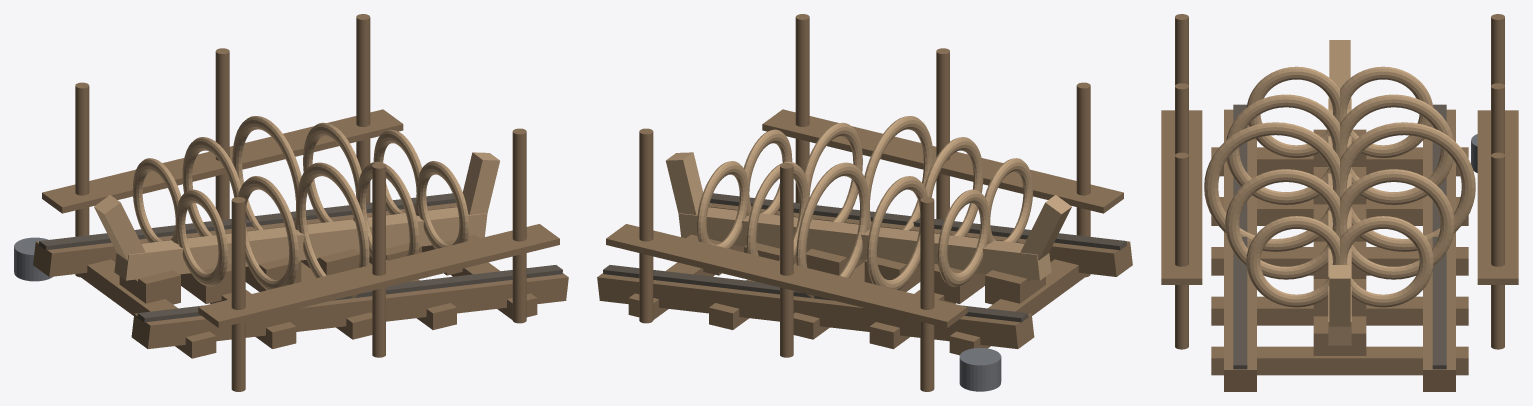
The model's file is drydock_slipway.glb.
The picture shows the model from 3 angles, left to right: view 1: azimuth 30°, elevation 25°; view 2: azimuth 150°, elevation 25°; view 3: azimuth 270°, elevation 25°; orthographic projection.
Visible parts, largest first — view 1: Cube, Cube.018, Cube.015, Cube.019, Cube.002, Cylinder.002, Cylinder, Cube.004, Cube.003, Cylinder.001, Torus.005, Cube.001 (+23 smaller); view 2: Cube.002, Cube.019, Cube.015, Cube.018, Cube, Cylinder.005, Cylinder.003, Cube.001, Cylinder.004, Torus.004, Cube.003, Cube.004 (+23 smaller); view 3: Cube.008, Cube.018, Cube.019, Cube, Cube.002, Torus.004, Torus.005, Torus.006, Torus.007, Cube.007, Torus.002, Torus.003 (+24 smaller).
Boxes of the visible parts, x1,y1,x2,y2 form: Cube: (131, 273, 568, 348); Cube.018: (198, 224, 559, 327); Cube.015: (114, 207, 487, 280); Cube.019: (42, 109, 403, 213); Cube.002: (33, 203, 456, 276); Cylinder.002: (512, 128, 526, 323); Cylinder: (231, 197, 245, 391); Cube.004: (76, 259, 216, 358); Cube.003: (39, 193, 455, 250); Cylinder.001: (372, 162, 385, 357); Torus.005: (297, 162, 369, 298); Cube.001: (137, 265, 562, 322); Cube.002: (597, 273, 1034, 348); Cube.019: (606, 224, 967, 327); Cube.015: (678, 207, 1051, 280); Cube.018: (762, 109, 1123, 213); Cube: (709, 203, 1132, 276); Cylinder.005: (639, 128, 653, 323); Cylinder.003: (920, 197, 934, 391); Cube.001: (710, 193, 1126, 250); Cylinder.004: (780, 162, 793, 357); Torus.004: (796, 162, 868, 298); Cube.003: (603, 265, 1028, 322); Cube.004: (949, 259, 1088, 355); Cube.008: (1211, 346, 1468, 375); Cube.018: (1161, 110, 1202, 284); Cube.019: (1477, 110, 1518, 284); Cube: (1224, 109, 1256, 391); Cube.002: (1423, 109, 1455, 391); Torus.004: (1340, 122, 1475, 251); Torus.005: (1204, 122, 1339, 251); Torus.006: (1340, 169, 1454, 279); Torus.007: (1225, 169, 1339, 279); Cube.007: (1211, 296, 1468, 325); Torus.002: (1340, 94, 1453, 204); Torus.003: (1226, 94, 1339, 204).
Bounding box in the file's own units: 4.2 × 1.92 × 3.05.
